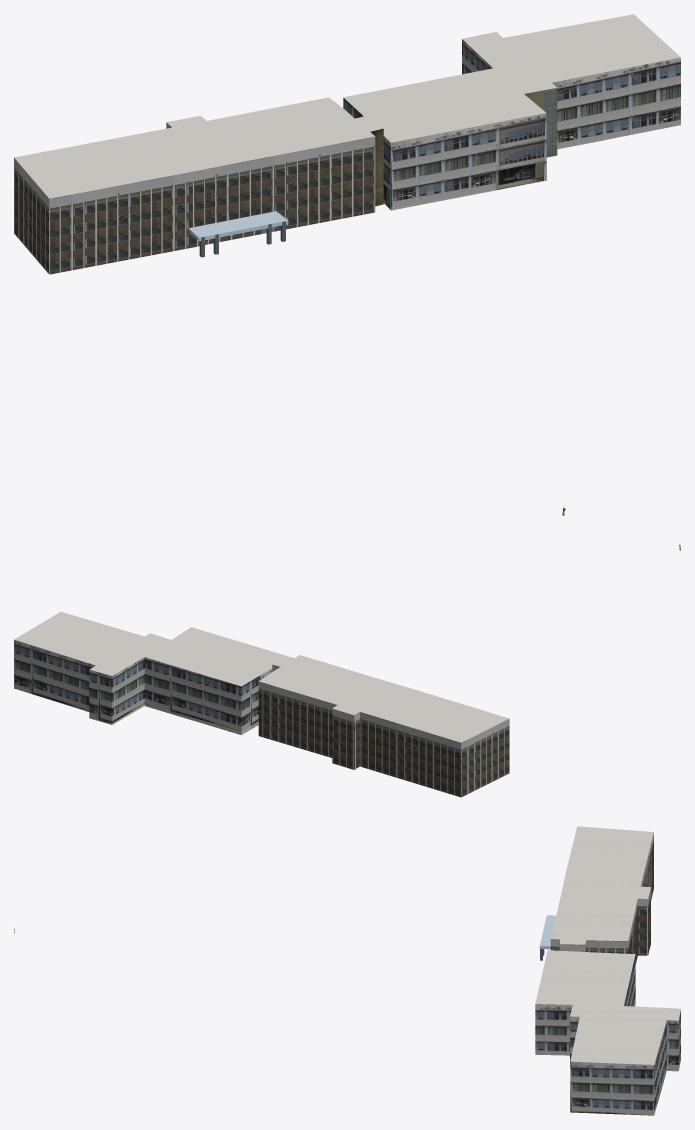
Rendered from GeoMathBD.gltf.
The picture shows the model from 3 angles, top to bottom: view 1: azimuth 30°, elevation 25°; view 2: azimuth 150°, elevation 25°; view 3: azimuth 270°, elevation 25°; orthographic projection. The views are drawn at different scales.
Parts seen in each view (by area): view 1: root; view 2: root; view 3: root.
Part boxes in pixels (<box>): root: <box>14,14,680,274</box>; root: <box>14,611,509,797</box>; root: <box>535,826,680,1115</box>.
Bounding box in the file's own units: 128 × 14.59 × 155.
Materials: 28 (8 with a texture image).
